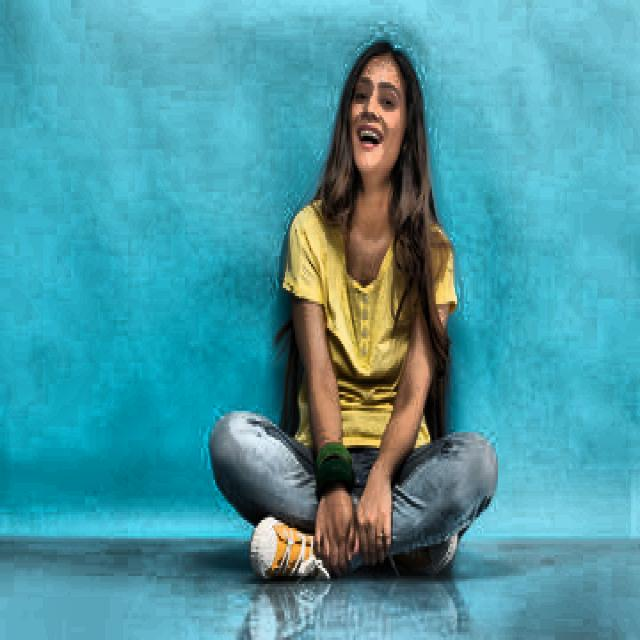Human: (224, 26, 507, 601)
